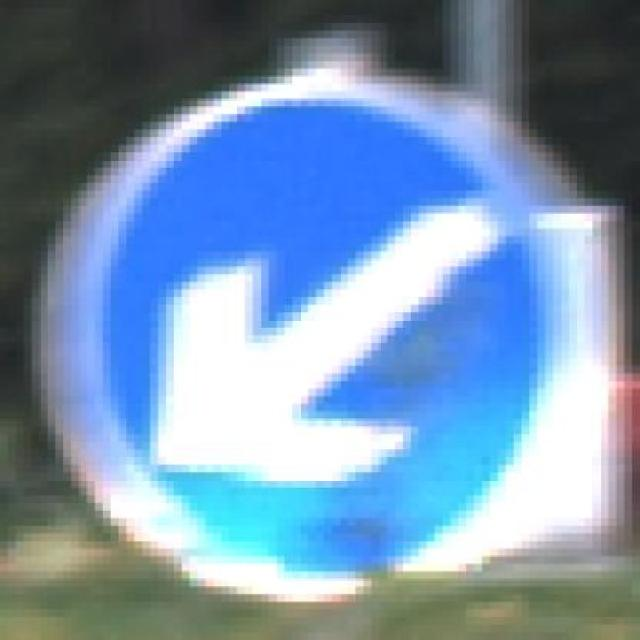Keep-Left: (32, 38, 616, 618)
